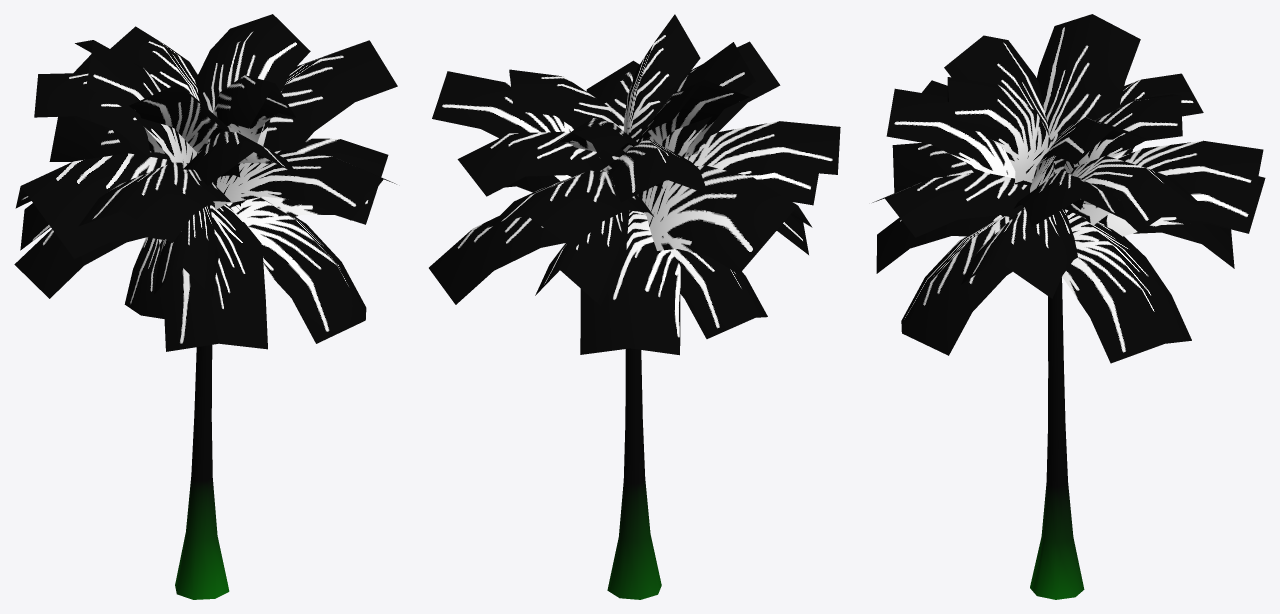
File: P_CoconutPalm01.obj
3 views of the same model, side by side, from view 1: azimuth 30°, elevation 25°; view 2: azimuth 150°, elevation 25°; view 3: azimuth 270°, elevation 25° (orthographic). The views are drawn at different scales.
Size of the model in its own units: 6.59 by 9.83 by 6.62.
